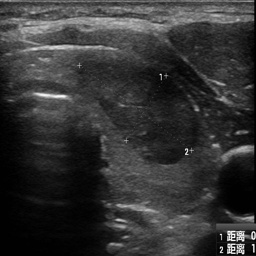mass: (81, 63, 196, 161)
